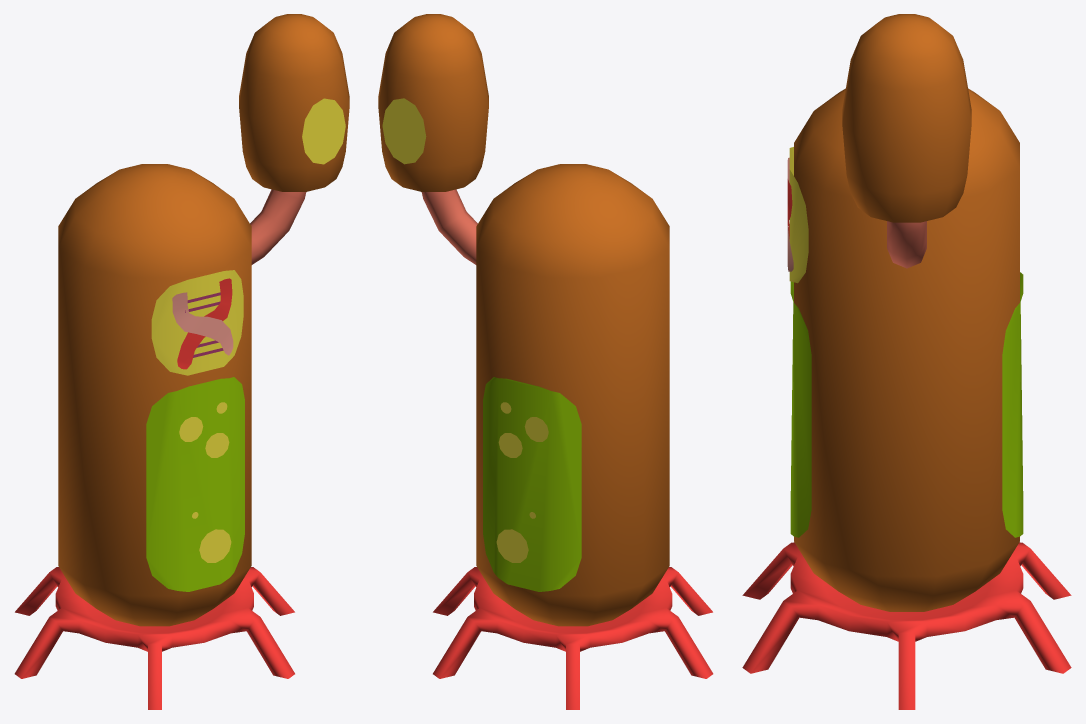
The model's file is main-quest.fbx.
The picture shows the model from 3 angles, left to right: view 1: azimuth 30°, elevation 25°; view 2: azimuth 150°, elevation 25°; view 3: azimuth 270°, elevation 25°; orthographic projection. The views are drawn at different scales.
Parts seen in each view (by area): view 1: main_quest; view 2: main_quest; view 3: main_quest.
Boxes of the visible parts, x1,y1,x2,y2 form: main_quest: [14, 14, 349, 709]; main_quest: [378, 14, 713, 709]; main_quest: [742, 14, 1071, 709].
Size of the model in its own units: 68.55 by 119 by 51.46.
